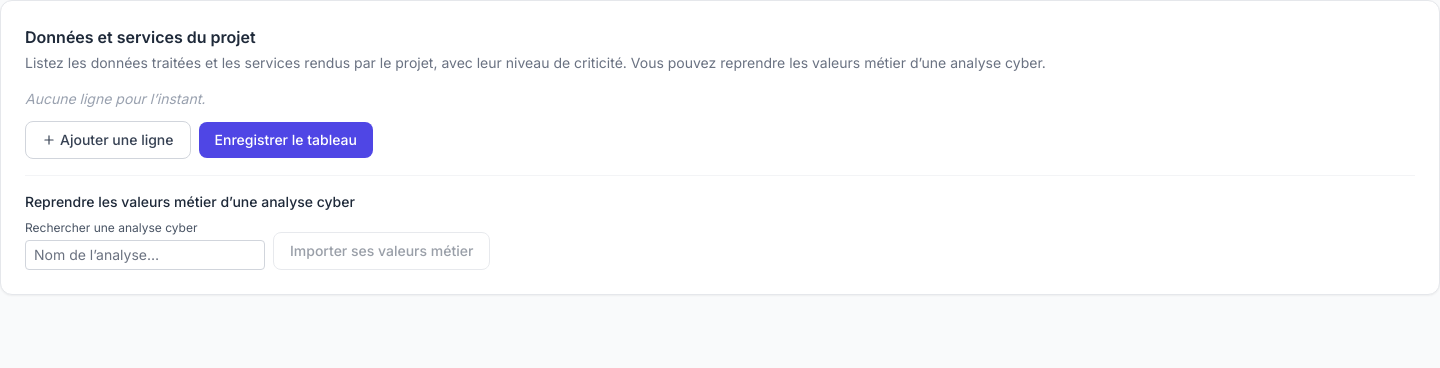
ActifsProjet (phase 2) › importe les valeurs métier d’une analyse cyber trouvée par recherche
In the search field labelled "Rechercher une analyse cyber": (145, 255) [25,240,265,270], type "portail"
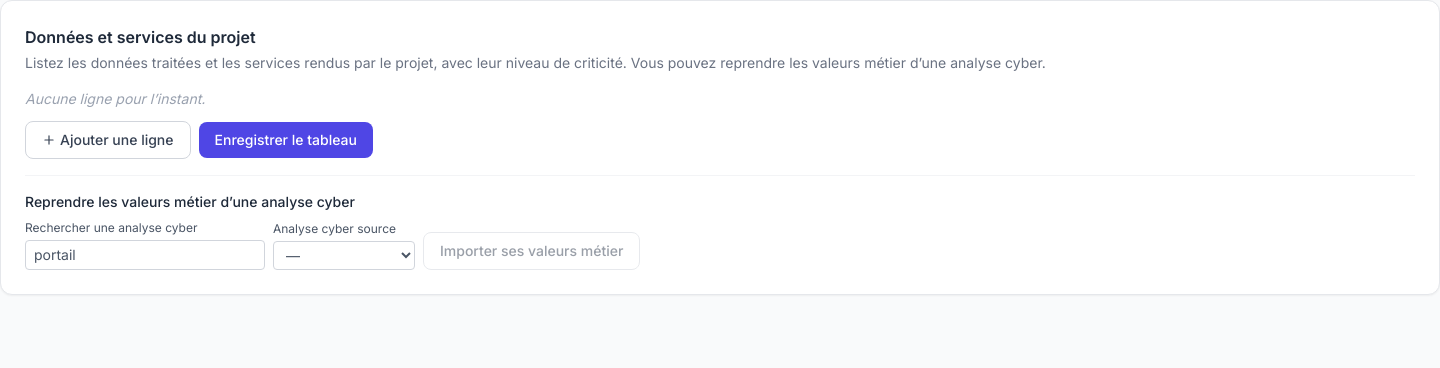
Select "Cyber — portail" in the dropdown labelled "Analyse cyber source": (344, 256) [273,241,415,270]
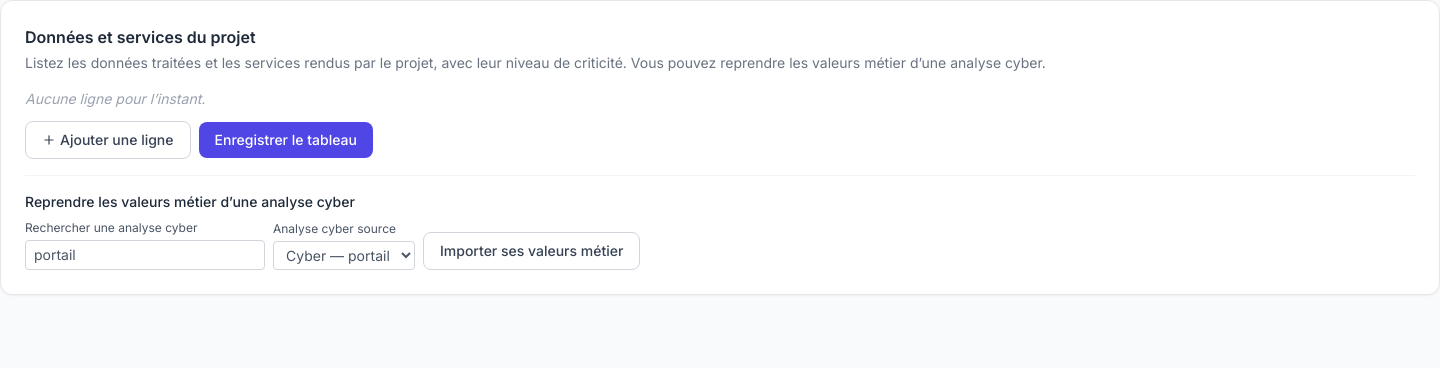
Click the button "Importer ses valeurs métier": (532, 251) [423,232,640,270]
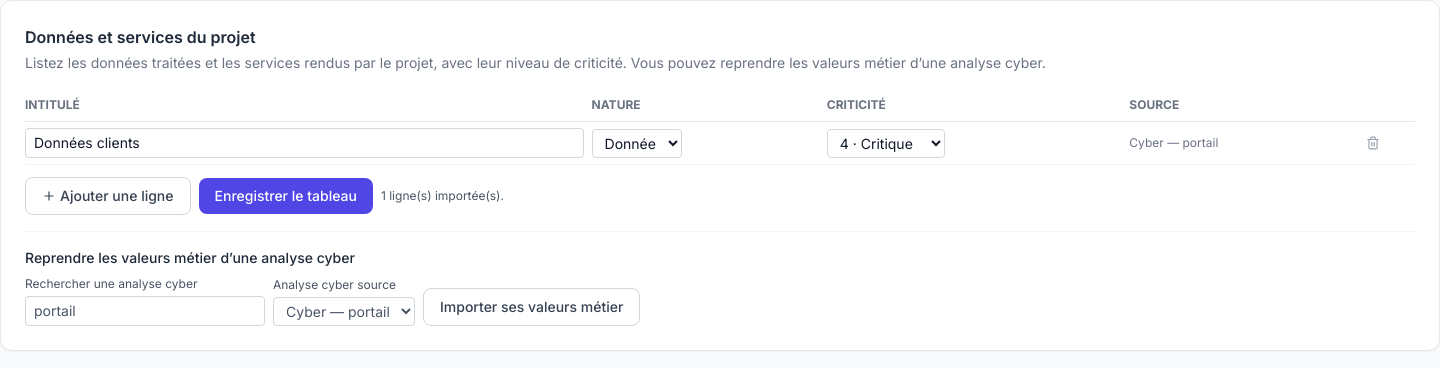
Expected: the field showing "Données clients" is shown, [25,128,584,158]
Expected: the text "1 ligne(s) importée(s)." is shown, [381,188,504,204]
